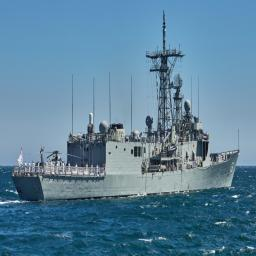Fragata: (12, 7, 242, 206)
